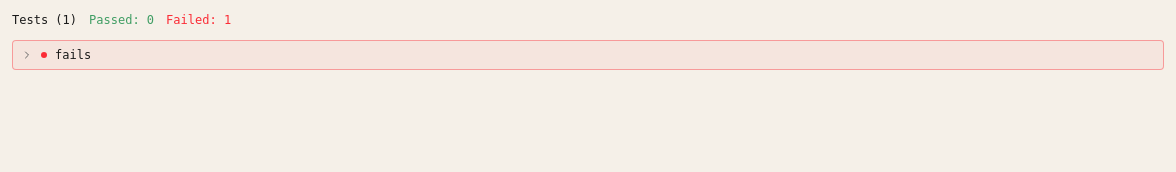
TestResultsView — pass/fail summary › expands a failing test to show its message and actual/expected
Expected: the text "expected 1 to equal 2" is not shown
Click the button "fails". click: (73, 55)
box: [13,41,1163,69]
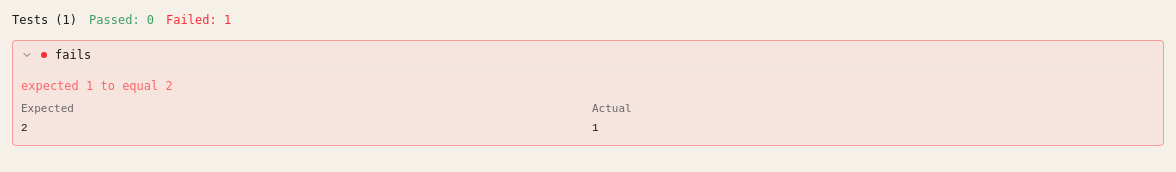
Now the text "expected 1 to equal 2" is shown, box [21,79,173,93]
Now the text "1" is shown, box [592,122,599,134]
Now the text "2" is shown, box [21,122,28,134]
